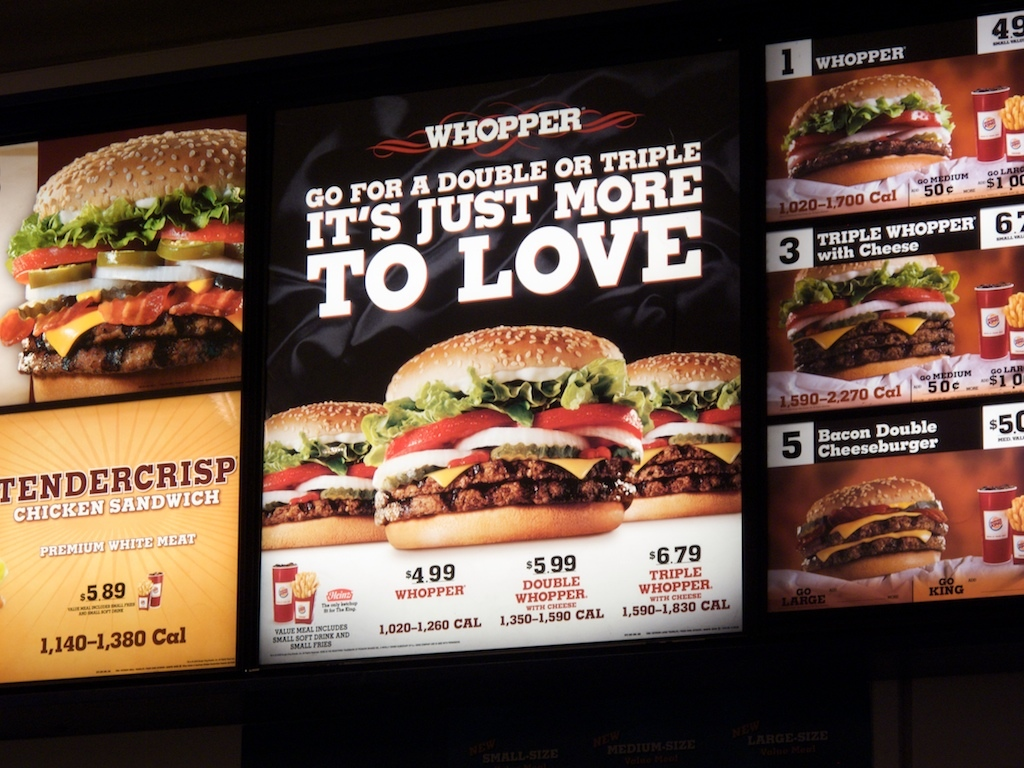Hamburger: (0, 130, 245, 404), (362, 325, 656, 552), (782, 252, 960, 383), (261, 399, 387, 552), (782, 73, 956, 183), (629, 350, 741, 517), (798, 479, 949, 580)
